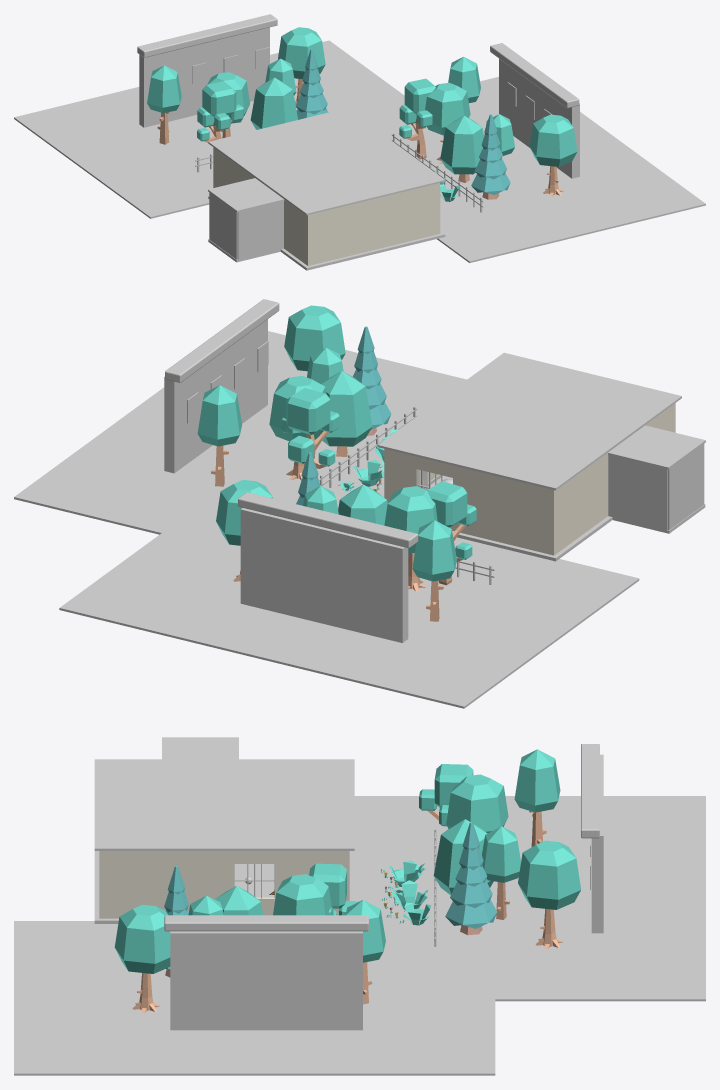
The model's file is bedroom_sister.glb.
The picture shows the model from 3 angles, top to bottom: view 1: azimuth 30°, elevation 25°; view 2: azimuth 150°, elevation 25°; view 3: azimuth 270°, elevation 25°; orthographic projection. The views are drawn at different scales.
Visible parts, largest first — view 1: grass, k_leafsGreen, ceiling, wall, house_far, wall_next, roof_far, k_leafsDark, k_woodBark, window_far, carpet, fence; view 2: grass, ceiling, house_far, k_leafsGreen, wall, wall_next, roof_far, k_leafsDark, k_woodBark, fence, carpet, window_far (+1 smaller); view 3: grass, ceiling, k_leafsGreen, house_far, wall, roof_far, k_leafsDark, k_woodBark, carpet, k_grass.
Part boxes in pixels (box(x1,y1,x2,y2)): grass: box(14, 40, 705, 262); k_leafsGreen: box(147, 27, 577, 174); ceiling: box(208, 108, 445, 215); wall: box(213, 147, 440, 265); house_far: box(139, 27, 579, 178); wall_next: box(209, 192, 283, 259); roof_far: box(137, 14, 579, 108); k_leafsDark: box(295, 49, 510, 194); k_woodBark: box(157, 78, 563, 196); window_far: box(174, 47, 551, 119); carpet: box(208, 196, 445, 270); fence: box(195, 133, 483, 212); grass: box(14, 331, 639, 708); ceiling: box(377, 352, 705, 490); house_far: box(164, 319, 408, 642); k_leafsGreen: box(197, 305, 476, 581); wall: box(384, 403, 675, 555); wall_next: box(608, 444, 704, 530); roof_far: box(165, 299, 418, 548); k_leafsDark: box(296, 326, 391, 505); k_woodBark: box(211, 431, 465, 621); fence: box(318, 406, 494, 584); carpet: box(428, 475, 612, 561); window_far: box(187, 341, 268, 423); grass: box(14, 796, 705, 1075); ceiling: box(94, 737, 354, 850); k_leafsGreen: box(114, 749, 580, 973); house_far: box(170, 754, 603, 1030); wall: box(99, 851, 349, 918); roof_far: box(164, 744, 599, 931); k_leafsDark: box(164, 822, 497, 969); k_woodBark: box(132, 810, 563, 1013); carpet: box(94, 851, 354, 923); k_grass: box(380, 860, 431, 925).
Size of the model in its own units: 54.6 by 10.1 by 57.5.
